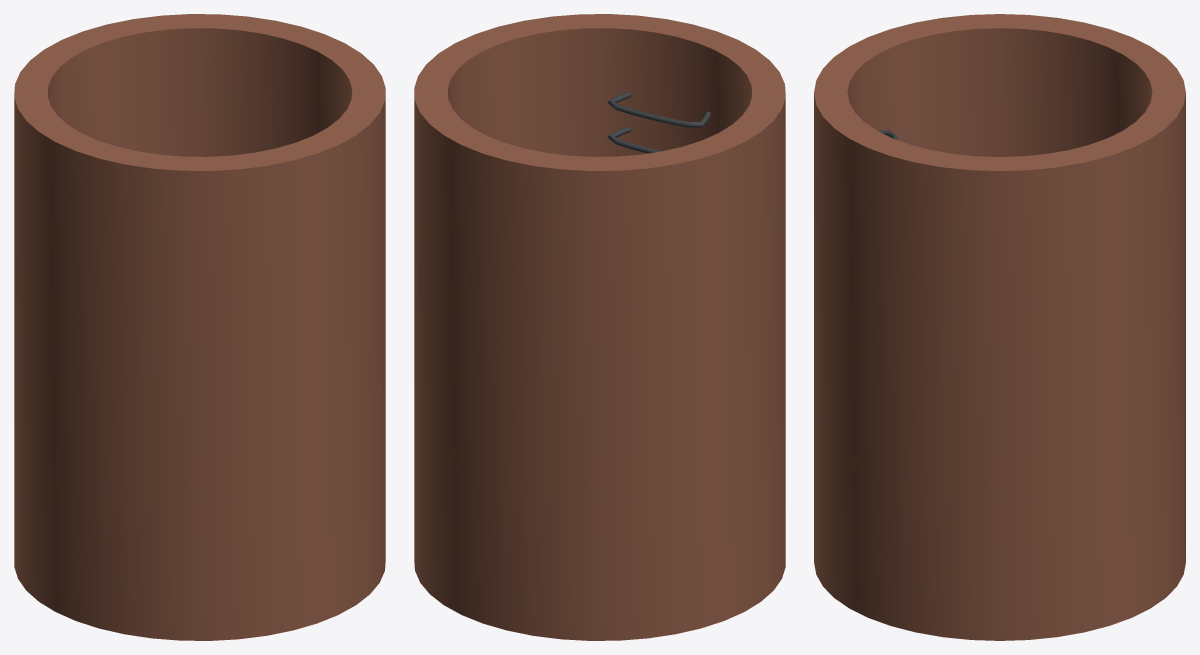
Rendered from undercity-sewers-and-thieves-den-ladder-shaft-f9adc1bd__25022.glb.
The picture shows the model from 3 angles, left to right: view 1: azimuth 30°, elevation 25°; view 2: azimuth 150°, elevation 25°; view 3: azimuth 270°, elevation 25°; orthographic projection.
Parts seen in each view (by area): view 1: ladder-shaft; view 2: ladder-shaft; view 3: ladder-shaft.
Part boxes in pixels (left/top/right/bottom): ladder-shaft: left=14, top=14, right=385, bottom=640; ladder-shaft: left=414, top=14, right=785, bottom=640; ladder-shaft: left=814, top=14, right=1185, bottom=640.
Size of the model in its own units: 2.44 by 3.4 by 2.44.
